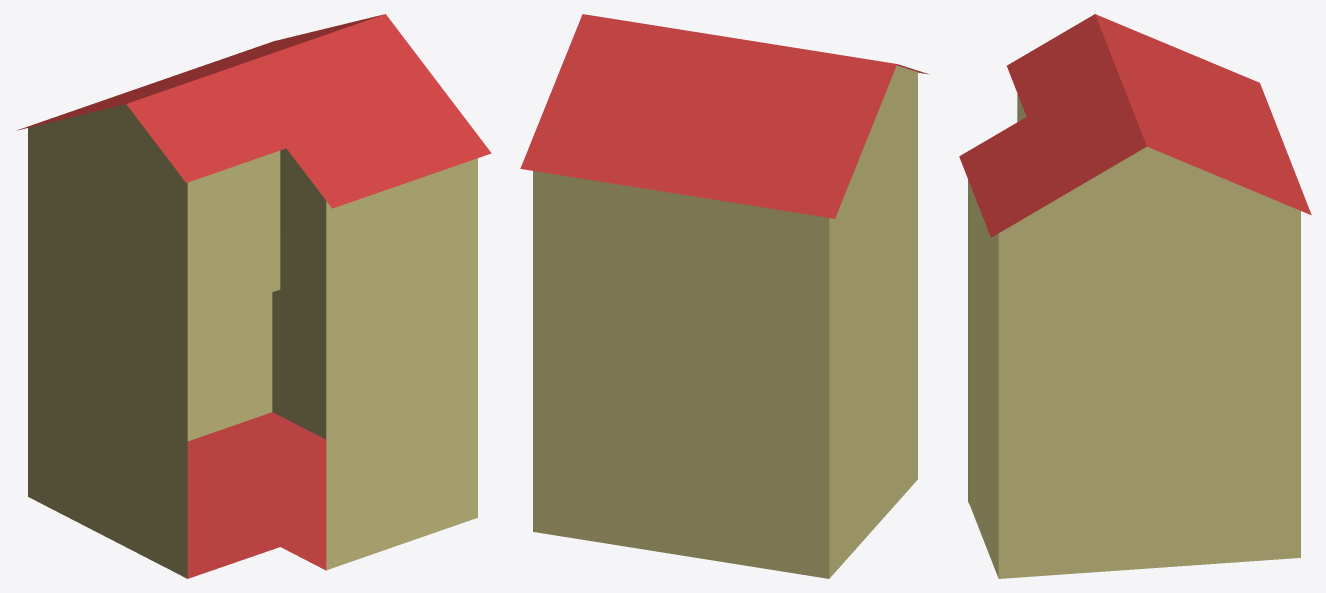
3 renders of one model, left to right at view 1: azimuth 30°, elevation 25°; view 2: azimuth 150°, elevation 25°; view 3: azimuth 270°, elevation 25°, orthographic. The views are drawn at different scales.
Bounding box in the file's own units: 9.8 × 9.42 × 12.56.
